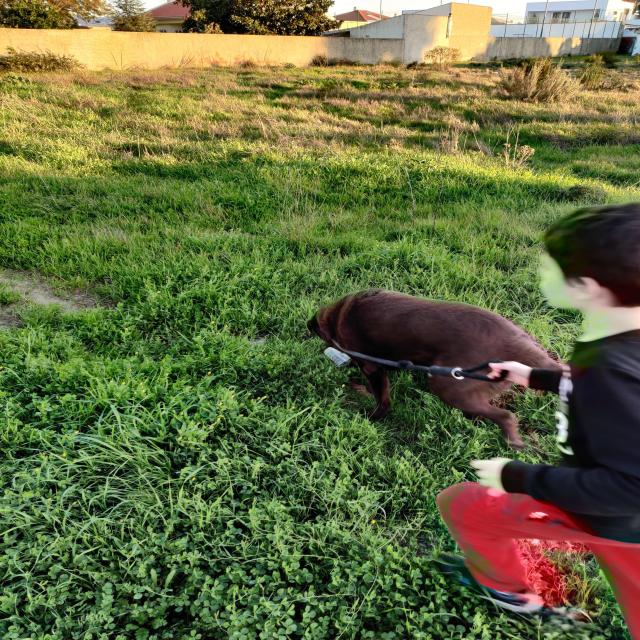litter: (320, 344, 355, 369)
